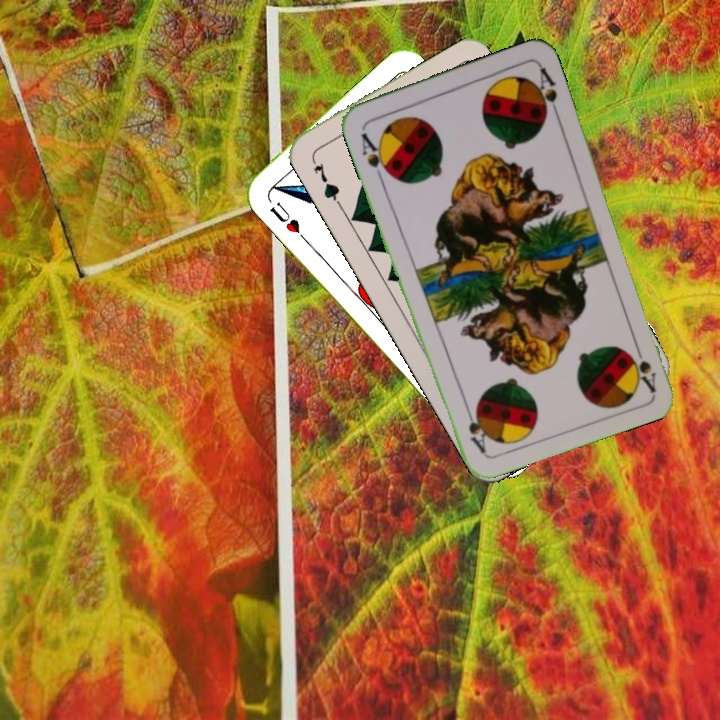G7: (307, 154, 344, 208)
HU: (266, 198, 308, 243)
SA: (356, 128, 394, 183), (625, 337, 659, 394)
